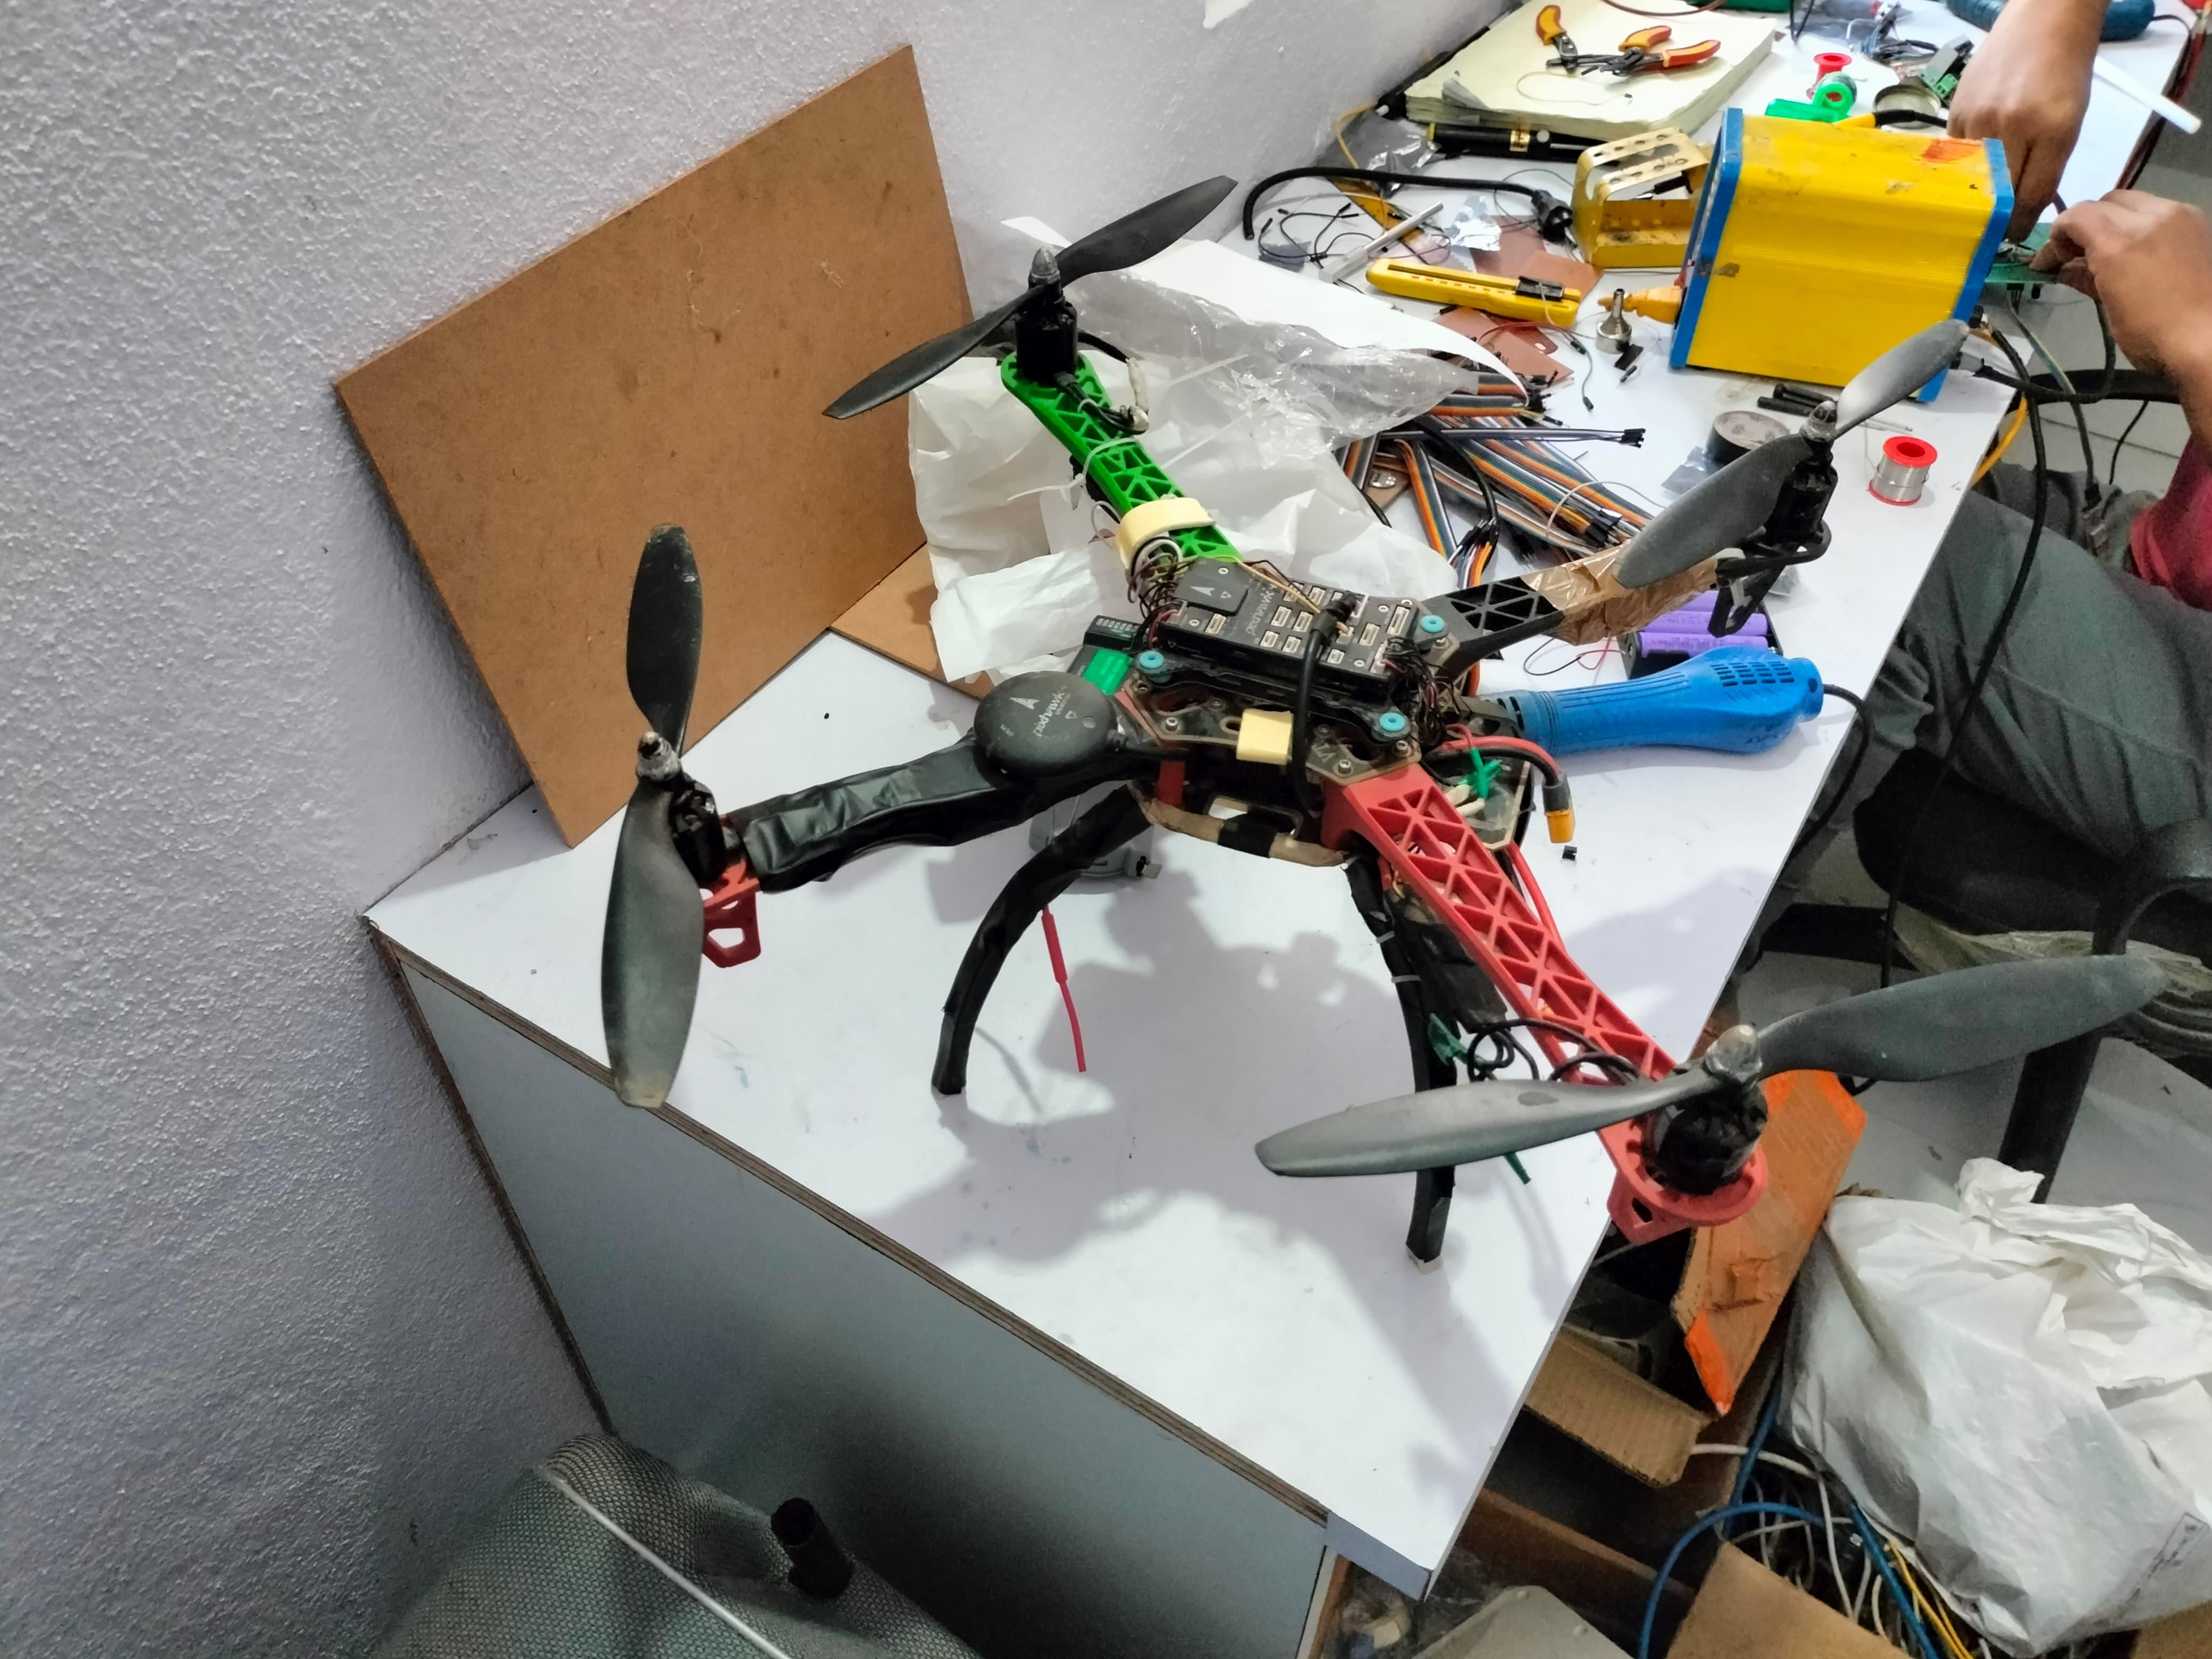drone: (567, 137, 2177, 1218)
